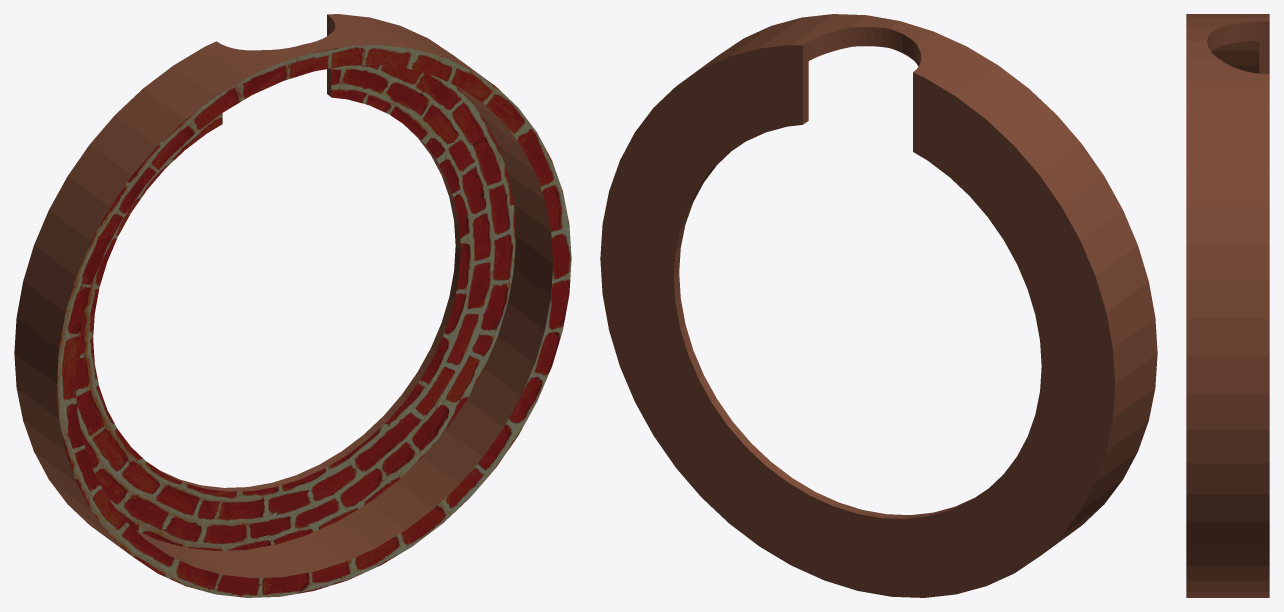
File: pool_005.obj
The picture shows the model from 3 angles, left to right: view 1: azimuth 30°, elevation 25°; view 2: azimuth 150°, elevation 25°; view 3: azimuth 270°, elevation 25°; orthographic projection.
Size of the model in its own units: 28 by 28 by 4.
